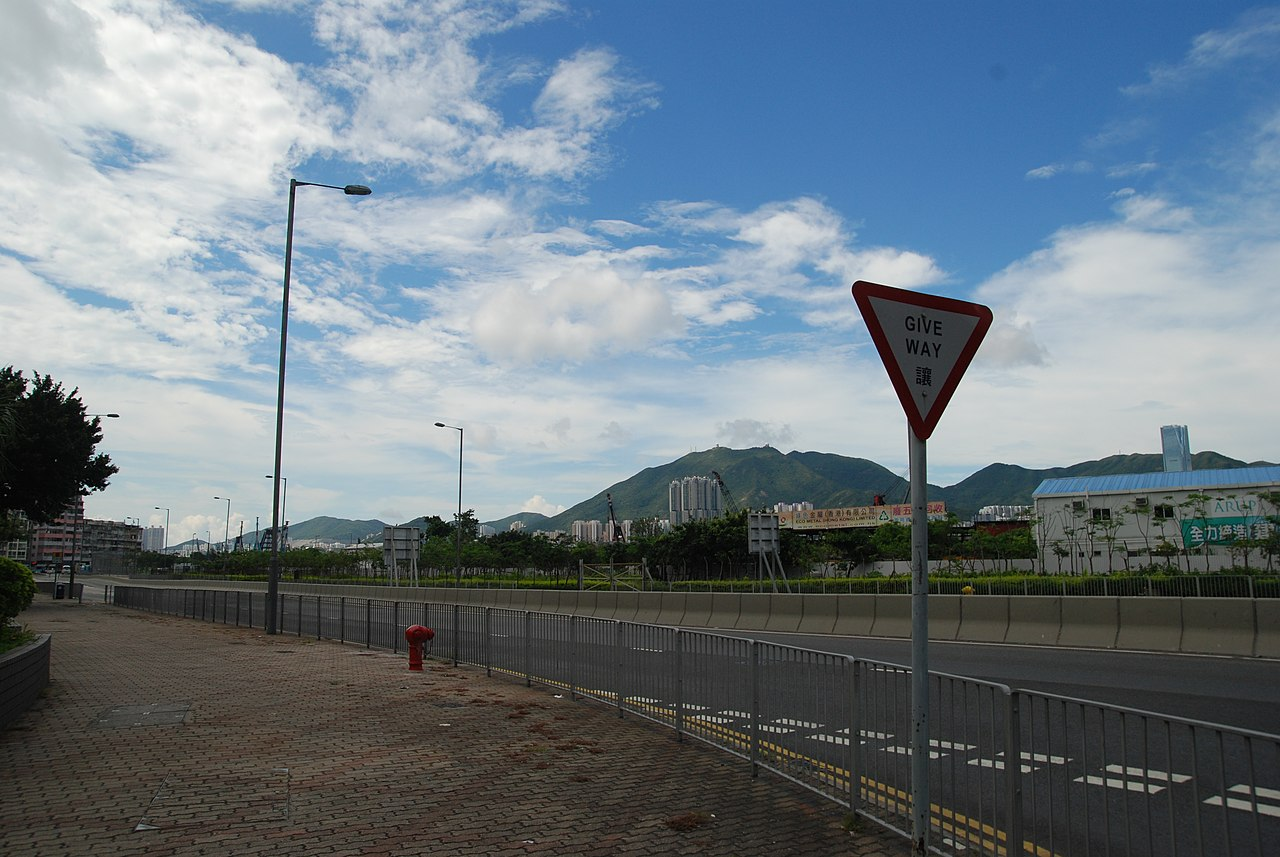Give Way: (852, 275, 998, 439)
